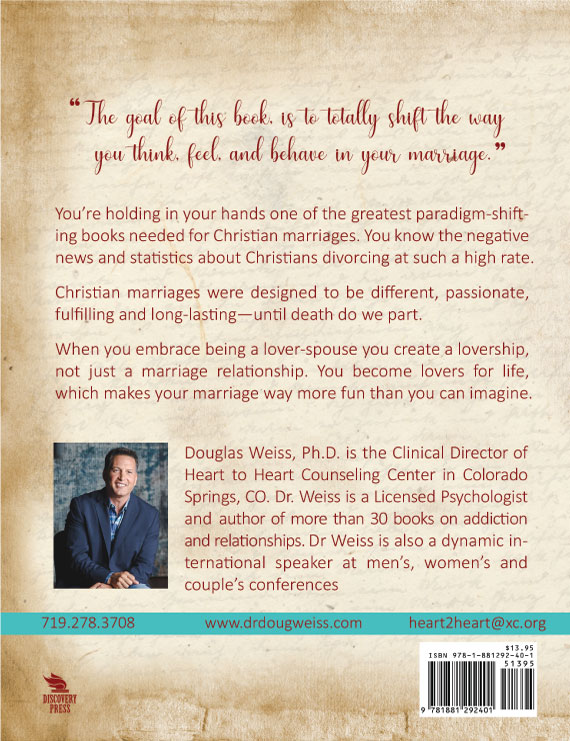barcode: (425, 642, 537, 719)
